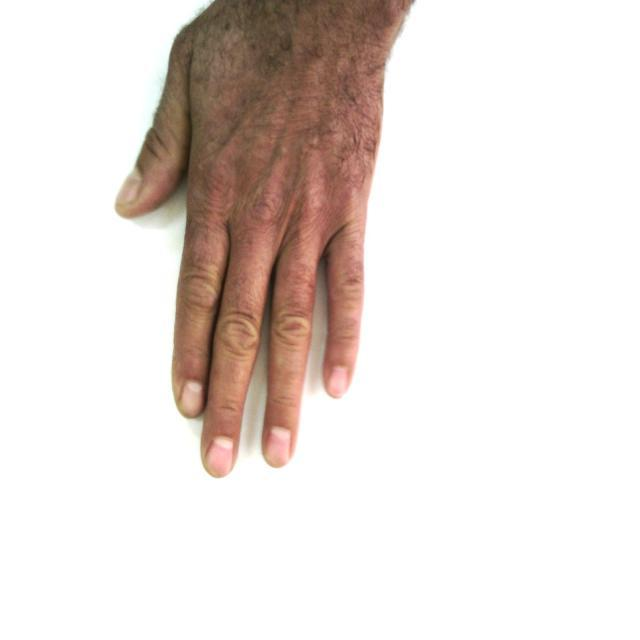Fingernail: (207, 438, 234, 476), (266, 428, 290, 466), (118, 170, 141, 205), (181, 382, 203, 416), (329, 367, 347, 397)
